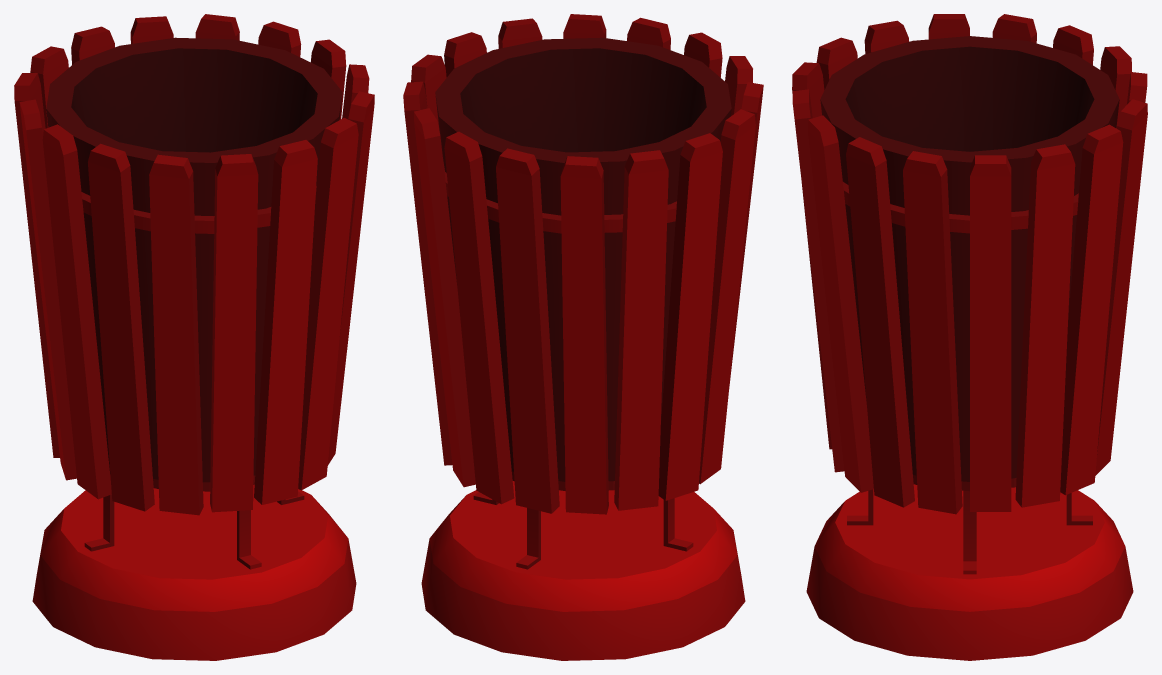
The model's file is ParkTrashcan.glb.
3 renders of one model, left to right at view 1: azimuth 30°, elevation 25°; view 2: azimuth 150°, elevation 25°; view 3: azimuth 270°, elevation 25°, orthographic.
Visible parts, largest first — view 1: ParkTrashcan; view 2: ParkTrashcan; view 3: ParkTrashcan.
Boxes of the visible parts, <box> form: ParkTrashcan: <box>14,14,374,660</box>; ParkTrashcan: <box>403,14,763,660</box>; ParkTrashcan: <box>792,14,1147,660</box>.
Bounding box in the file's own units: 2.95 × 4.62 × 2.95.
